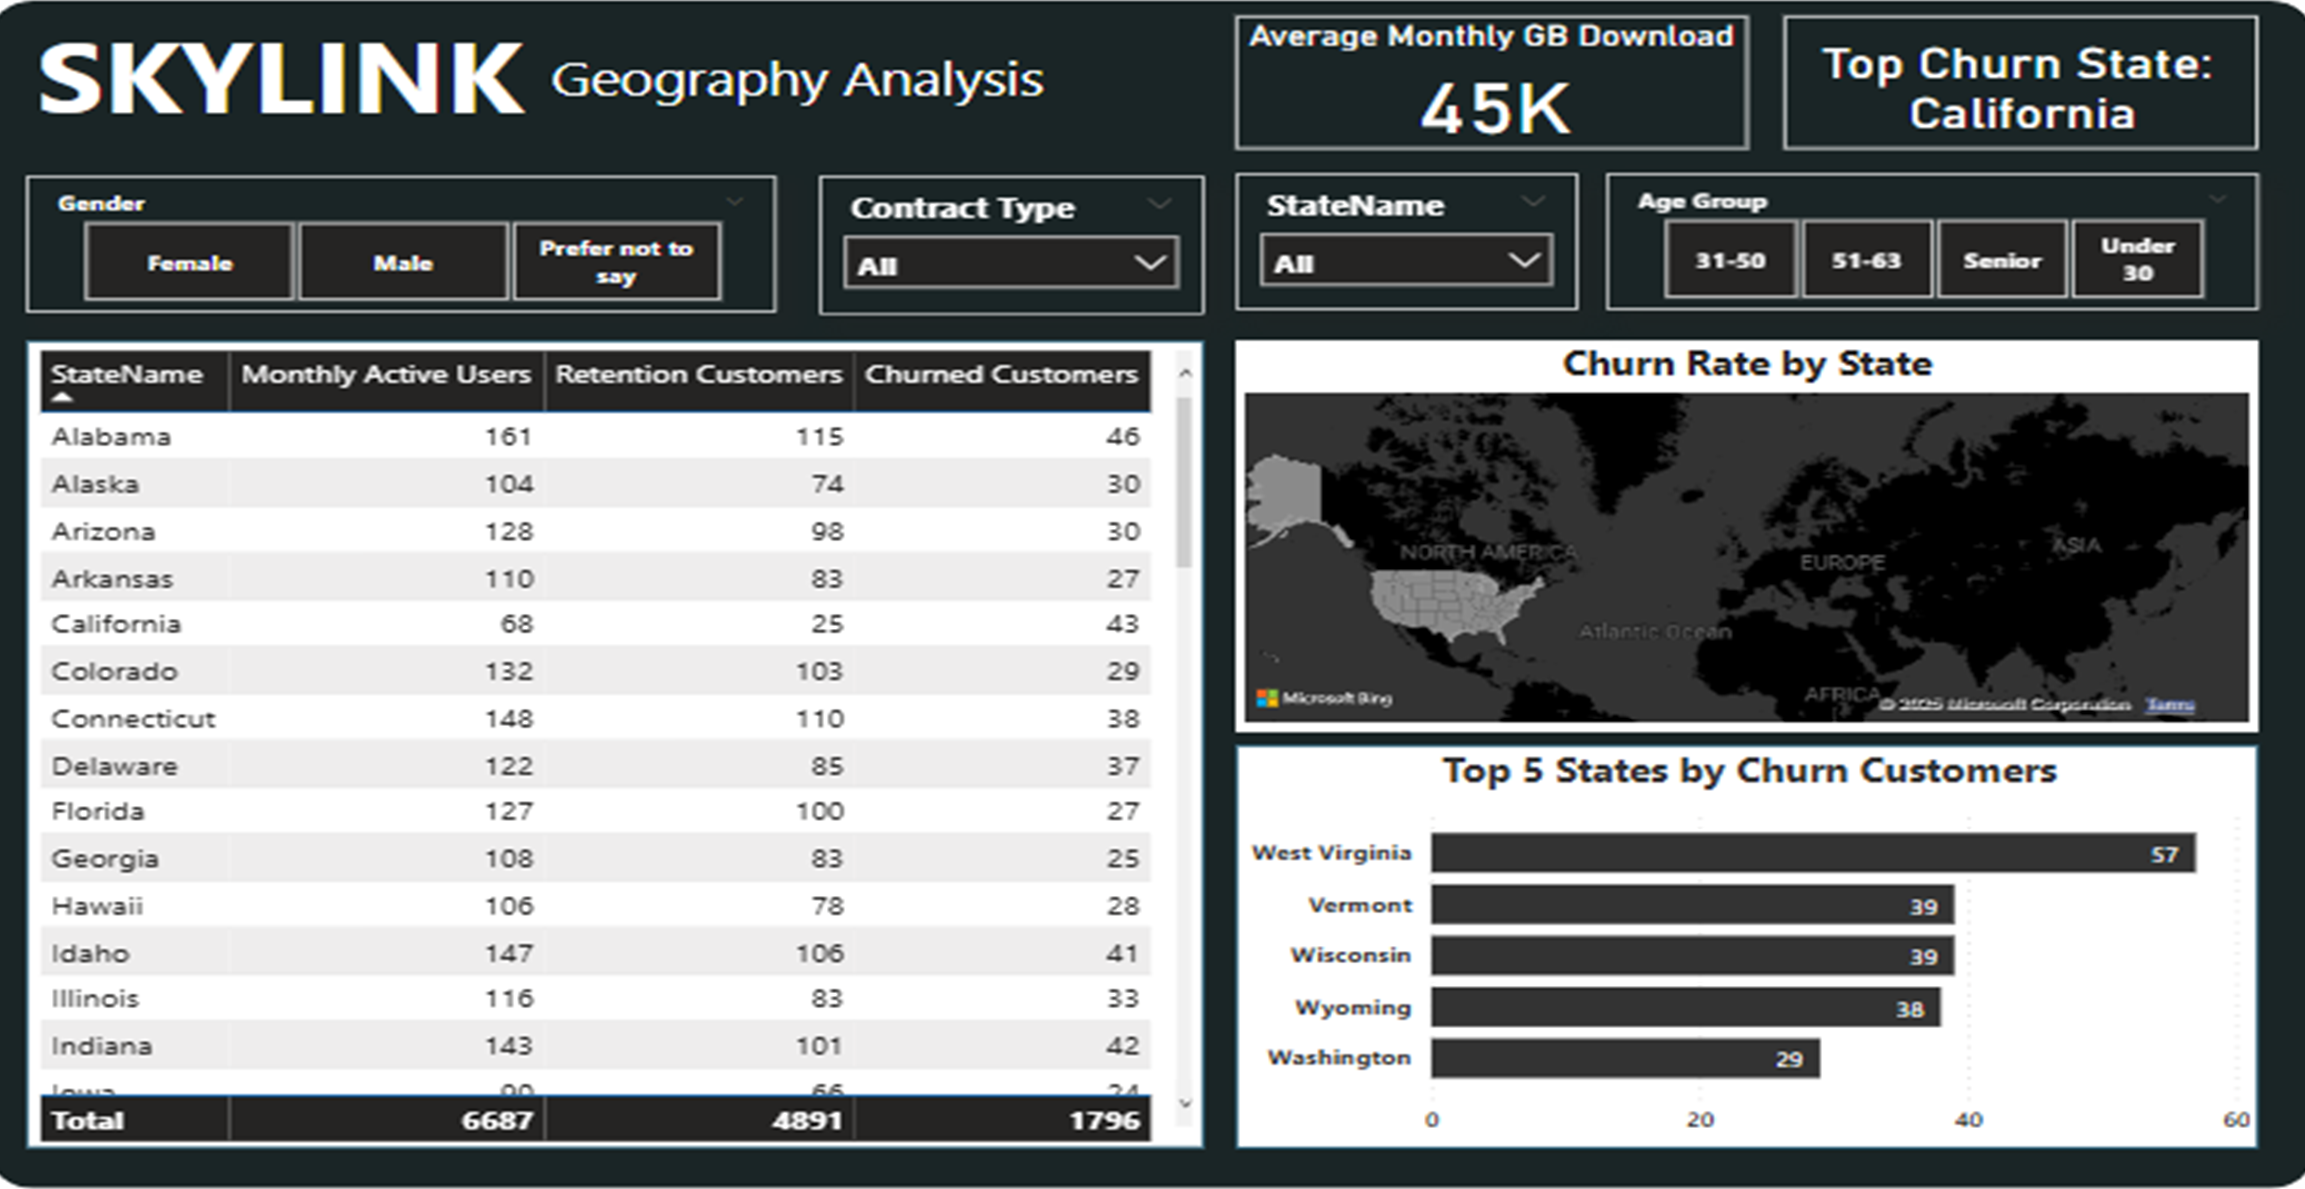

What the dashboard file says about the page in this screenshot:
{"tool":"powerbi","page":{"name":"Geography","canvas":[1280,720],"ordinal":2},"visuals":[{"type":"shape","box":[175,21.7,1093.3,685],"z":0},{"type":"card","title":"Retention Customers","fields":{"Values":["Key Measures & KPIs.Top State by Churn Rate"]},"box":[1020,30,222.9,77.1],"z":1000},{"type":"shape","box":[0,295.7,210,64.3],"z":2000},{"type":"actionButton","box":[4.3,200,164.3,54.3],"z":3000},{"type":"card","title":"Average Monthly GB Download","fields":{"Values":["Sum(SkyLink - Dataset.Avg Monthly GB Download)"]},"box":[761.4,30,241.4,77.1],"z":4000},{"type":"textbox","box":[193.3,21.7,248.3,100],"z":6000},{"type":"textbox","box":[435,41.7,293.3,58.3],"z":7000},{"type":"actionButton","box":[24.3,302.9,144.3,50],"z":8000},{"type":"actionButton","box":[4.3,390,164.3,82.9],"z":10000},{"type":"barChart","title":"Top 5 States by Churn Customers","fields":{"Y":["Key Measures & KPIs.Churned Customers"],"Category":["SkyLink - Dataset.StateName"]},"box":[761.4,450,481.4,232.9],"z":12000},{"type":"filledMap","title":"Churn Rate by State","fields":{"Category":["SkyLink - Dataset.StateName"]},"box":[761.4,217.1,481.4,225.7],"z":13000},{"type":"slicer","fields":{"Values":["SkyLink - Dataset.Age Group"]},"box":[935.7,121.4,307.1,78.6],"z":14000},{"type":"slicer","fields":{"Values":["SkyLink - Dataset.Gender"]},"box":[192.9,122.9,352.9,78.6],"z":15000},{"type":"slicer","fields":{"Values":["SkyLink - Dataset.StateName"]},"box":[761.4,121.4,161.4,78.6],"z":16000},{"type":"slicer","fields":{"Values":["SkyLink - Dataset.Contract Type"]},"box":[565.7,122.9,181.4,80],"z":17000},{"type":"tableEx","title":"Top 5 States by Churn Rate","fields":{"Values":["SkyLink - Dataset.StateName","Key Measures & KPIs.Monthly Active Users","Key Measures & KPIs.Retention Customers","Key Measures & KPIs.Churned Customers"]},"box":[192.9,217.1,554.3,465.7],"z":18000}]}

Visuals, with their boxes on the page's 1280x720 design canvas (x1, y1, x2, y2). These are canvas units, not pixel positions in the 2305x1189 screenshot, which may show the page scaled, cropped or inside an application window:
shape: detection(175, 22, 1268, 707)
"Retention Customers" card: detection(1020, 30, 1243, 107)
shape: detection(0, 296, 210, 360)
actionButton: detection(4, 200, 169, 254)
"Average Monthly GB Download" card: detection(761, 30, 1003, 107)
textbox: detection(193, 22, 442, 122)
textbox: detection(435, 42, 728, 100)
actionButton: detection(24, 303, 169, 353)
actionButton: detection(4, 390, 169, 473)
"Top 5 States by Churn Customers" barChart: detection(761, 450, 1243, 683)
"Churn Rate by State" filledMap: detection(761, 217, 1243, 443)
slicer - SkyLink - Dataset.Age Group: detection(936, 121, 1243, 200)
slicer - SkyLink - Dataset.Gender: detection(193, 123, 546, 202)
slicer - SkyLink - Dataset.StateName: detection(761, 121, 923, 200)
slicer - SkyLink - Dataset.Contract Type: detection(566, 123, 747, 203)
"Top 5 States by Churn Rate" tableEx: detection(193, 217, 747, 683)
